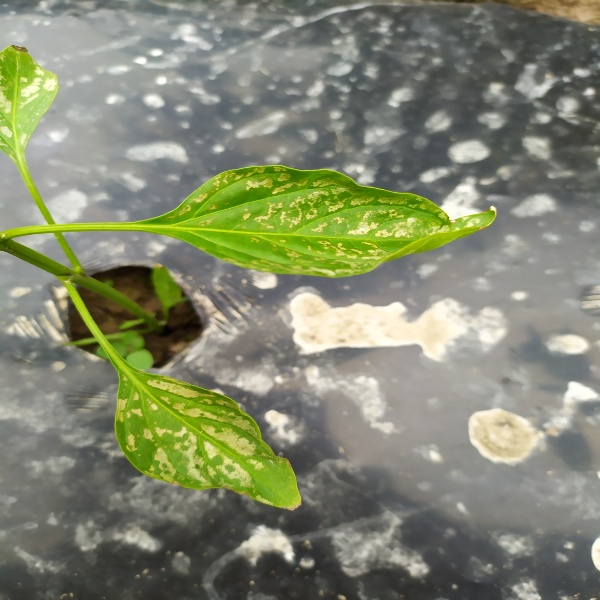Improper medication: (181, 167, 496, 275), (114, 368, 302, 511), (1, 42, 58, 173)
